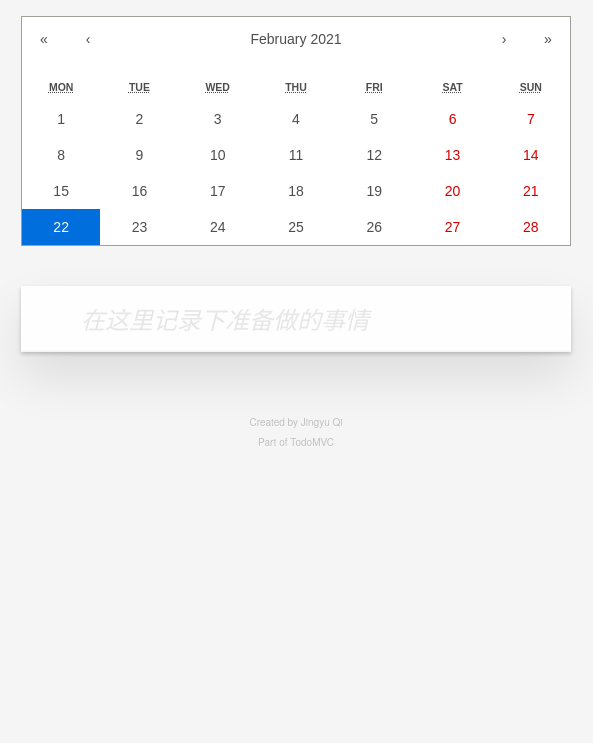
Test: Add Todo › can add todo
// can type text and submit
Step 1. Type "can be typing" into the field with test id "new-todo-input-text" → (296, 319), box [21,286,571,352]
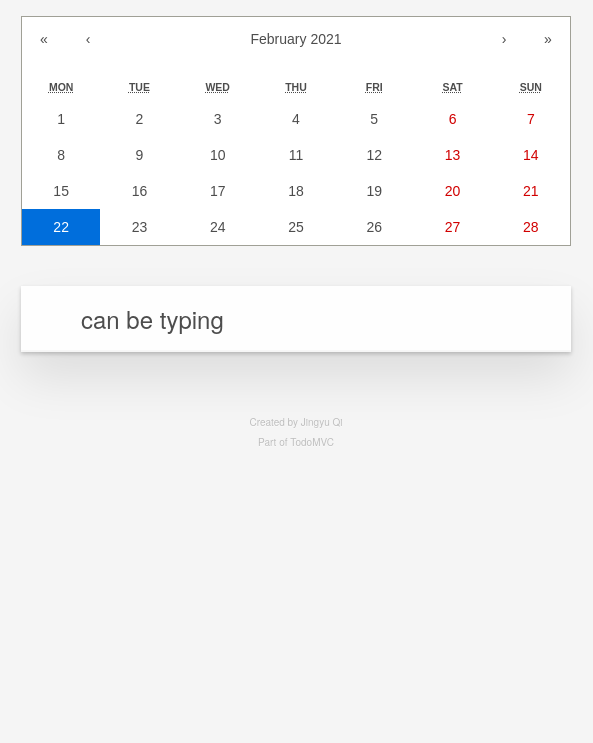
Step 2. Press Enter in the field with test id "new-todo-input-text", box [21,286,571,352]
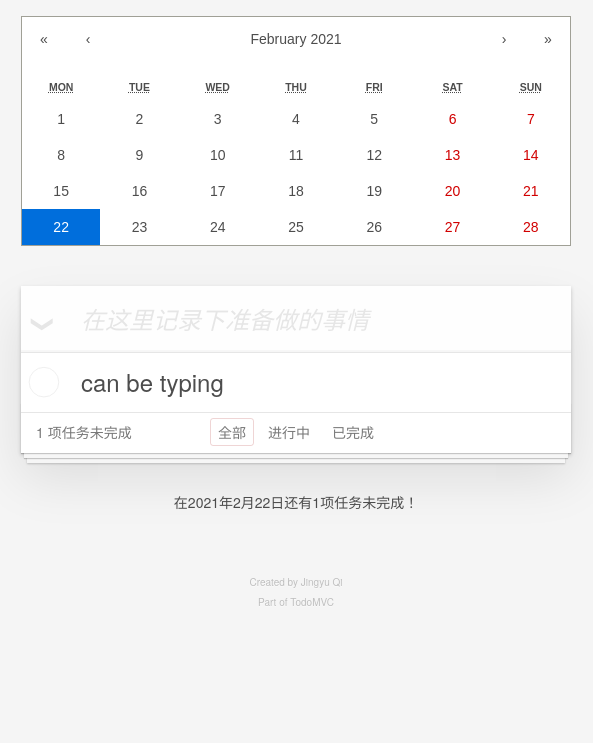
Now the label with test id "todo-item" reads "can be typing", box [21,353,571,412]
Step 3. Type "two" into the field with test id "new-todo-input-text" → (296, 319), box [21,286,571,352]
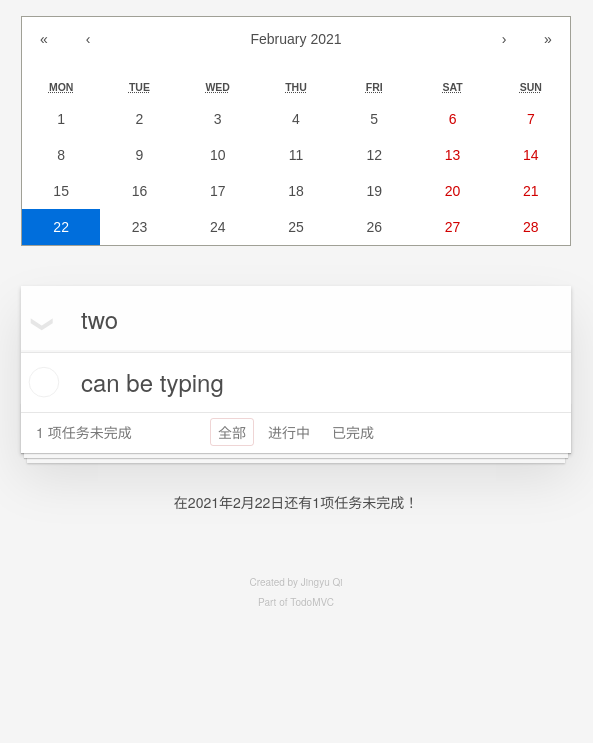
Step 4. Press Enter in the field with test id "new-todo-input-text", box [21,286,571,352]
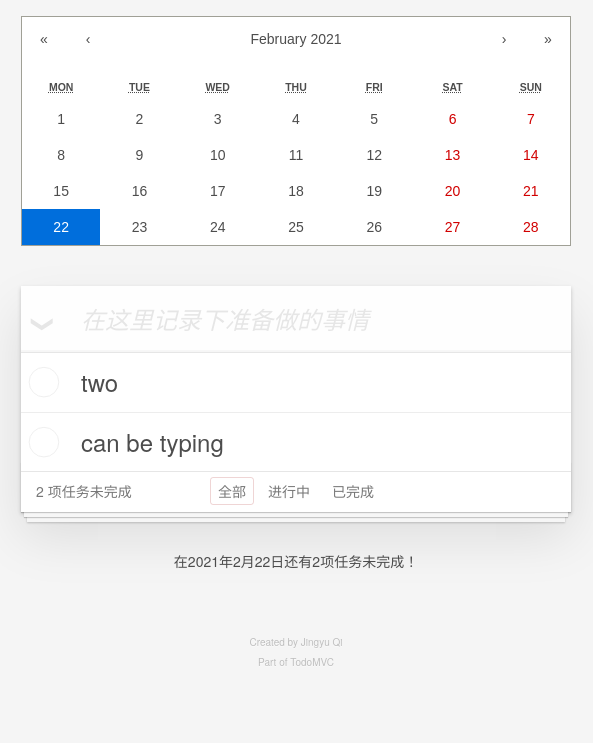
Now the element with test id "todo-item" showing "two" is shown, box [21,353,571,413]
Now the label with test id "todo-item" reads "two", box [21,353,571,412]
Step 5. Type "three" into the field with test id "new-todo-input-text" → (296, 319), box [21,286,571,352]
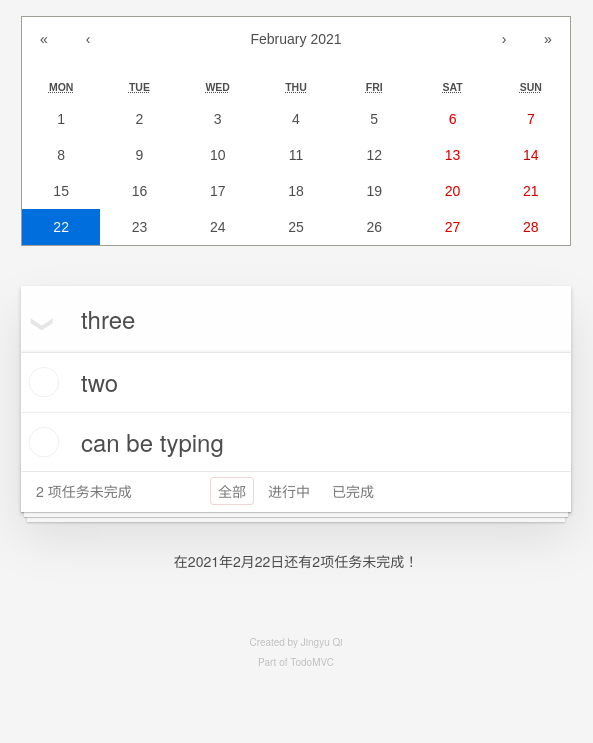
Step 6. Press Enter in the field with test id "new-todo-input-text", box [21,286,571,352]
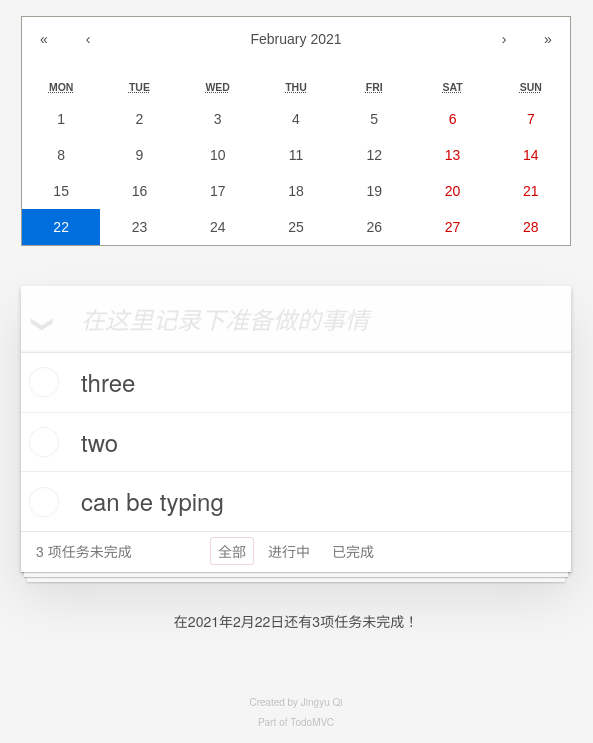
Now the element with test id "todo-item" showing "three" is shown, box [21,353,571,413]
Now the label with test id "todo-item" reads "three", box [21,353,571,412]
